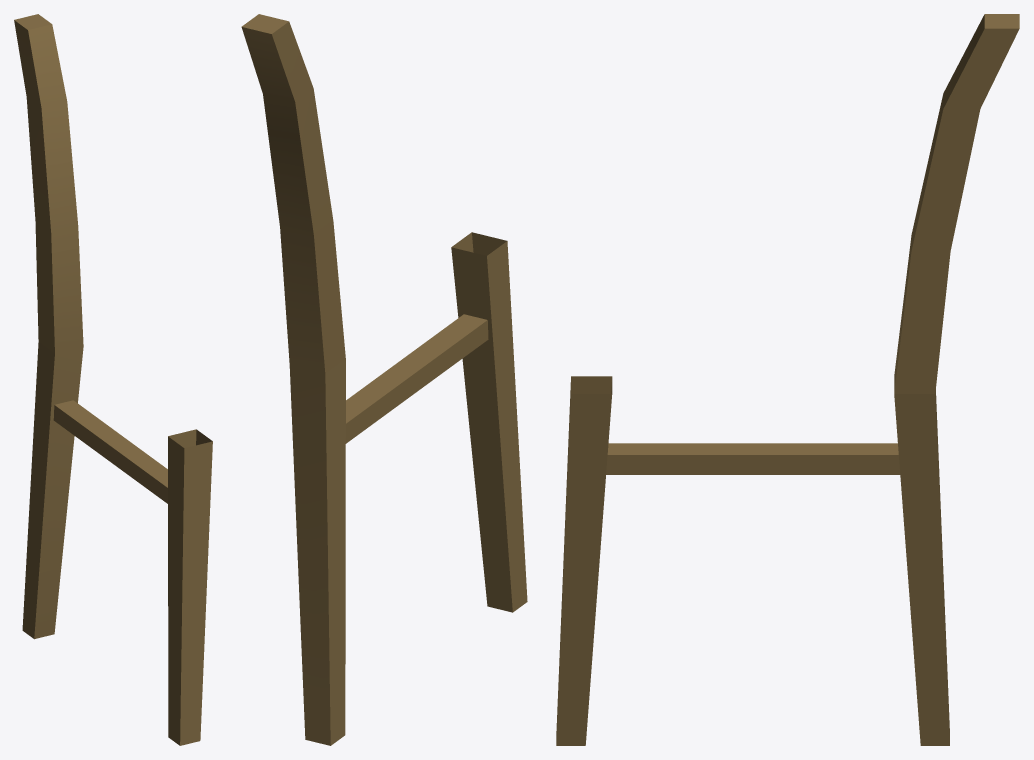
File: Itr_Chair3_Leg_Left_01.FBX
3 renders of one model, left to right at view 1: azimuth 30°, elevation 25°; view 2: azimuth 150°, elevation 25°; view 3: azimuth 270°, elevation 25°, orthographic. The views are drawn at different scales.
Parts seen in each view (by area): view 1: Itr_Chair3_Leg_Left_01; view 2: Itr_Chair3_Leg_Left_01; view 3: Itr_Chair3_Leg_Left_01.
Part boxes in pixels (box(x1,y1,x2,y2)): Itr_Chair3_Leg_Left_01: box(14, 14, 212, 745); Itr_Chair3_Leg_Left_01: box(241, 14, 527, 745); Itr_Chair3_Leg_Left_01: box(556, 14, 1019, 745).
Bounding box in the file's own units: 3.08 × 39.55 × 22.7.
